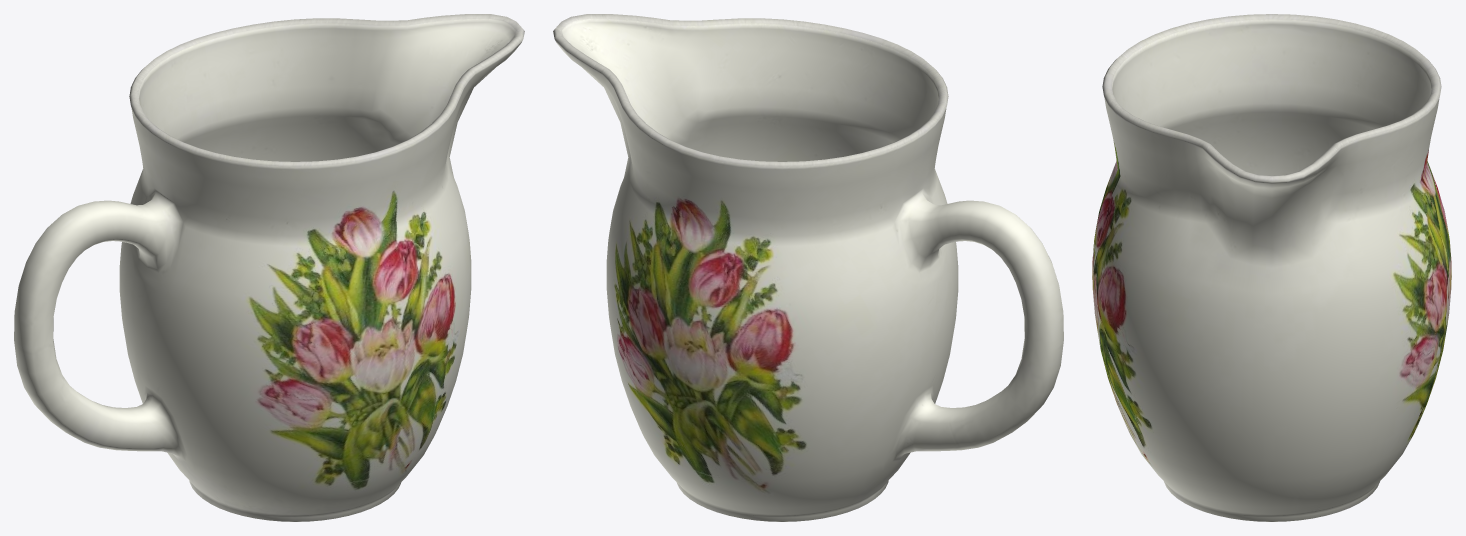
File: jug_01.glb
3 views of the same model, side by side, from view 1: azimuth 30°, elevation 25°; view 2: azimuth 150°, elevation 25°; view 3: azimuth 270°, elevation 25° (orthographic). The views are drawn at different scales.
Visible parts, largest first — view 1: jug_01; view 2: jug_01; view 3: jug_01.
Boxes of the visible parts, box(x1,y1,x2,y2) form: jug_01: box(14, 14, 524, 521); jug_01: box(553, 14, 1063, 521); jug_01: box(1092, 14, 1451, 521).
Size of the model in its own units: 0.2753 by 0.2113 by 0.1675.
1 material, 1 textured.
